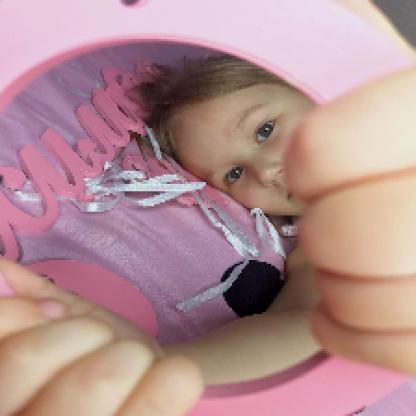child: (135, 55, 317, 222)
